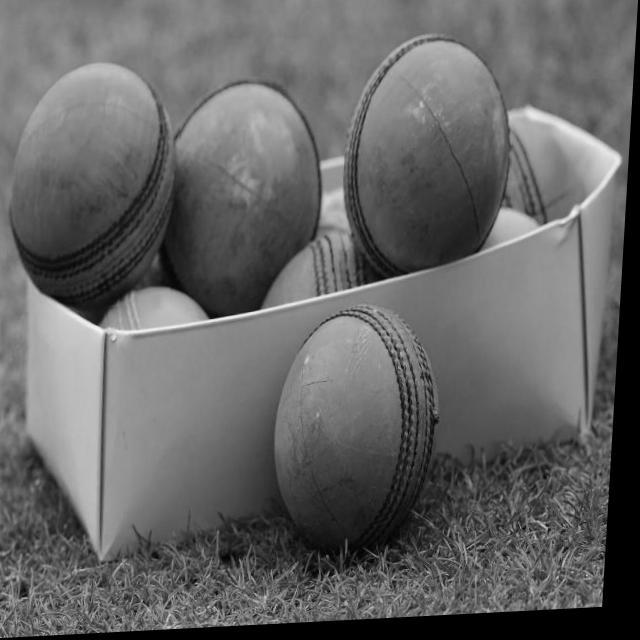cricket ball: (280, 307, 445, 558), (12, 64, 180, 310), (347, 39, 514, 284)
